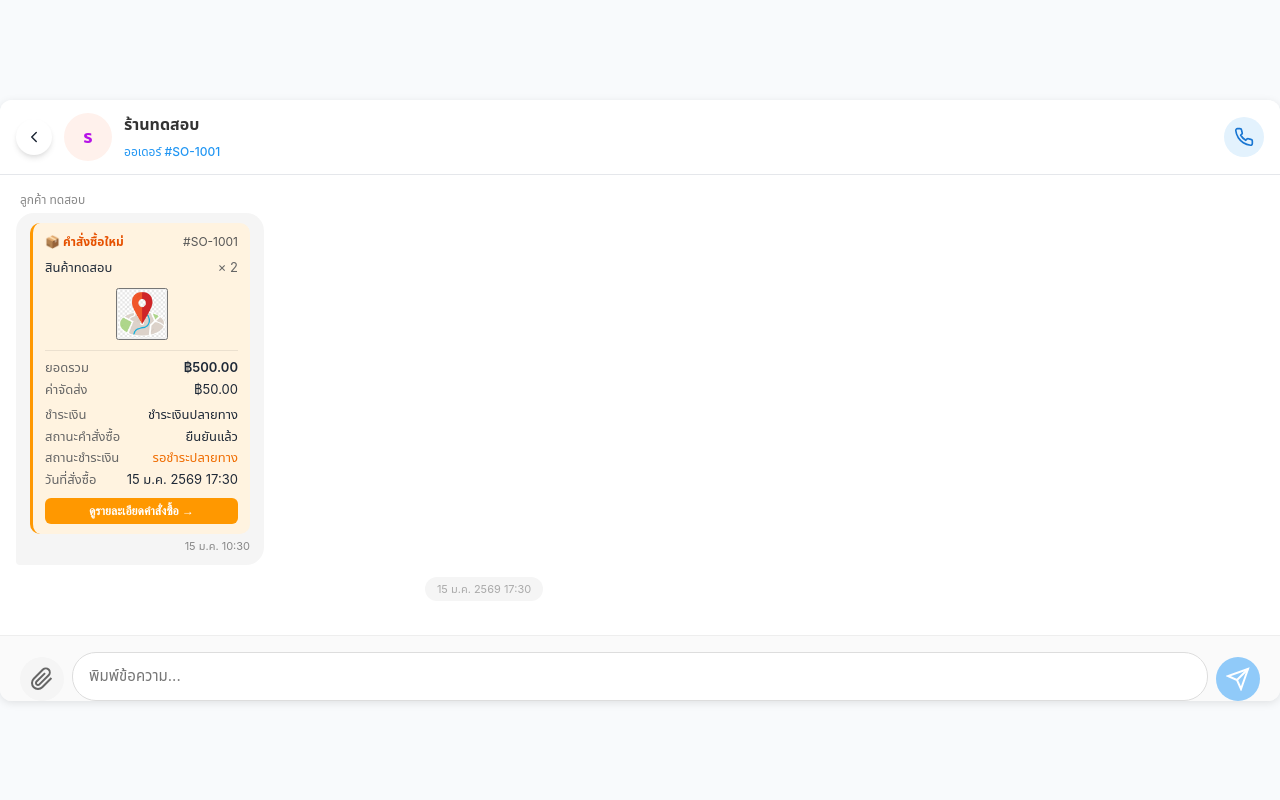
Test case: ChatRoom - Order Detail Popup › shows loading state while fetching order details
The image size is (1280, 800).
Later steps or results of the test are not shown.
Click the button "ดูรายละเอียดคำสั่งซื้อ →": (142, 511) left=45, top=498, right=238, bottom=524
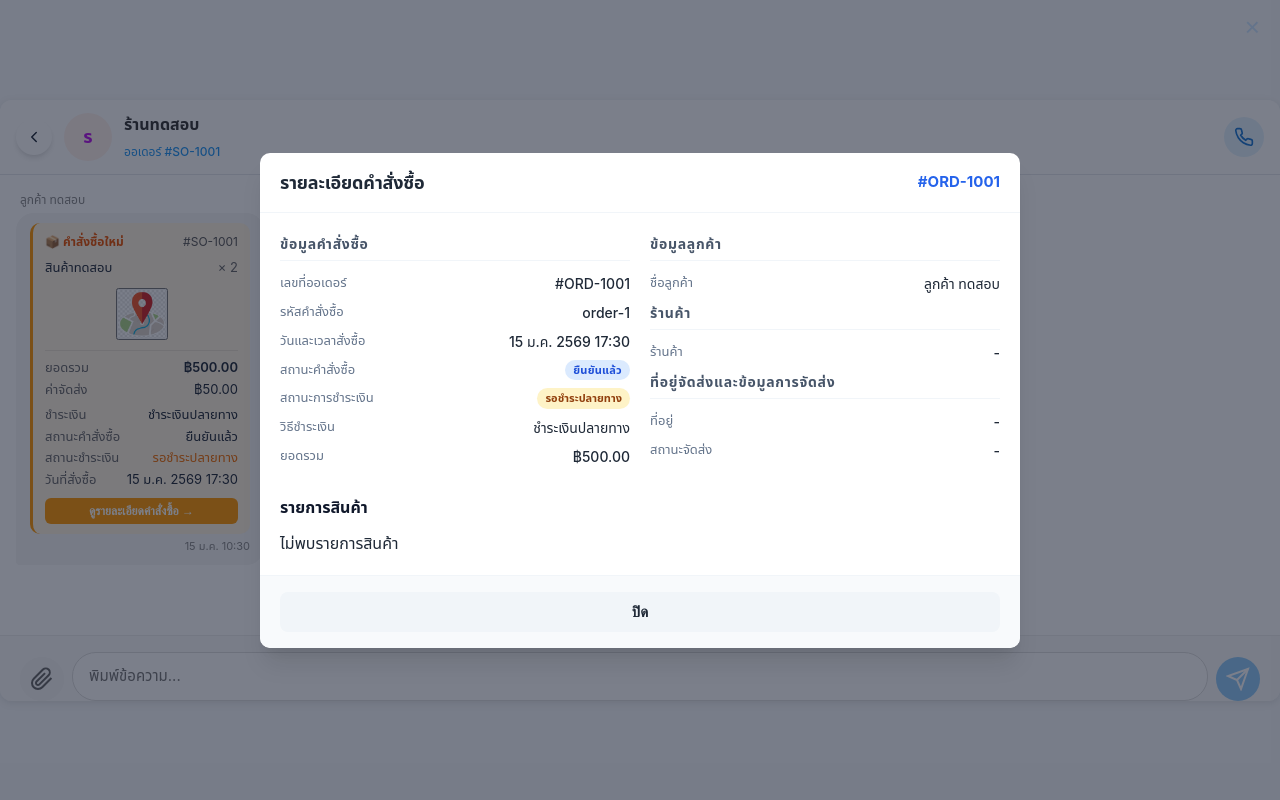
Check: the 1st text "#ORD-1001" is shown, box left=918, top=171, right=1000, bottom=193
